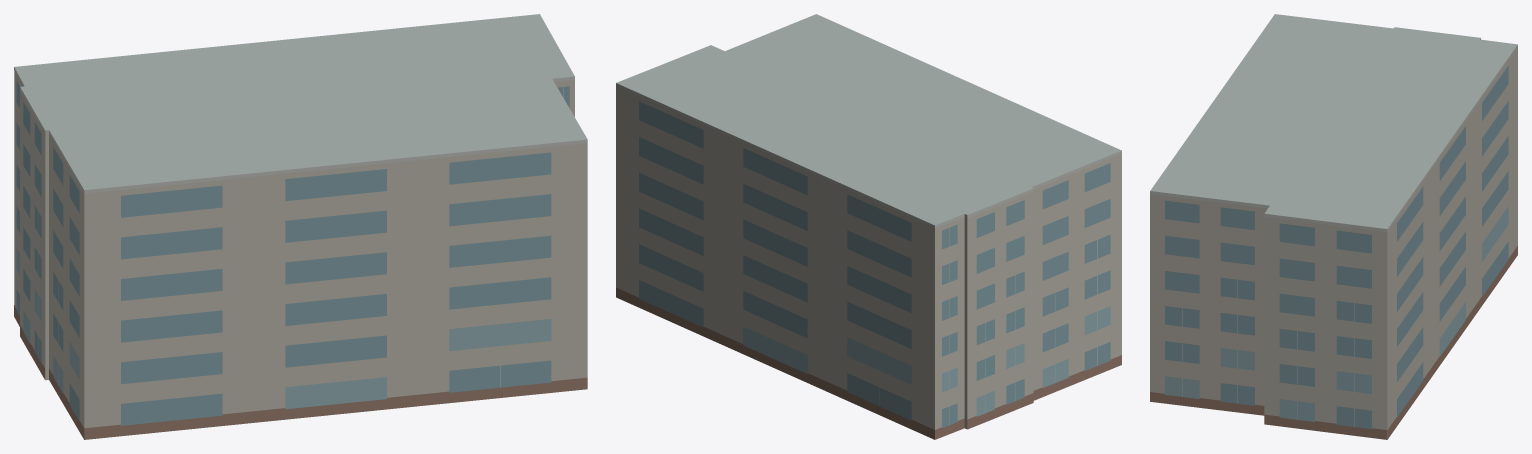
The model's file is survey-upis-32979092.glb.
The picture shows the model from 3 angles, left to right: view 1: azimuth 30°, elevation 25°; view 2: azimuth 150°, elevation 25°; view 3: azimuth 270°, elevation 25°; orthographic projection. The views are drawn at different scales.
Visible parts, largest first — view 1: survey-upis-32979092.tmp; view 2: survey-upis-32979092.tmp; view 3: survey-upis-32979092.tmp.
Part boxes in pixels (left/top/right/bottom): survey-upis-32979092.tmp: left=14, top=14, right=587, bottom=439; survey-upis-32979092.tmp: left=616, top=14, right=1121, bottom=439; survey-upis-32979092.tmp: left=1150, top=14, right=1517, bottom=439.
Size of the model in its own units: 38.1 by 17.4 by 27.52.
